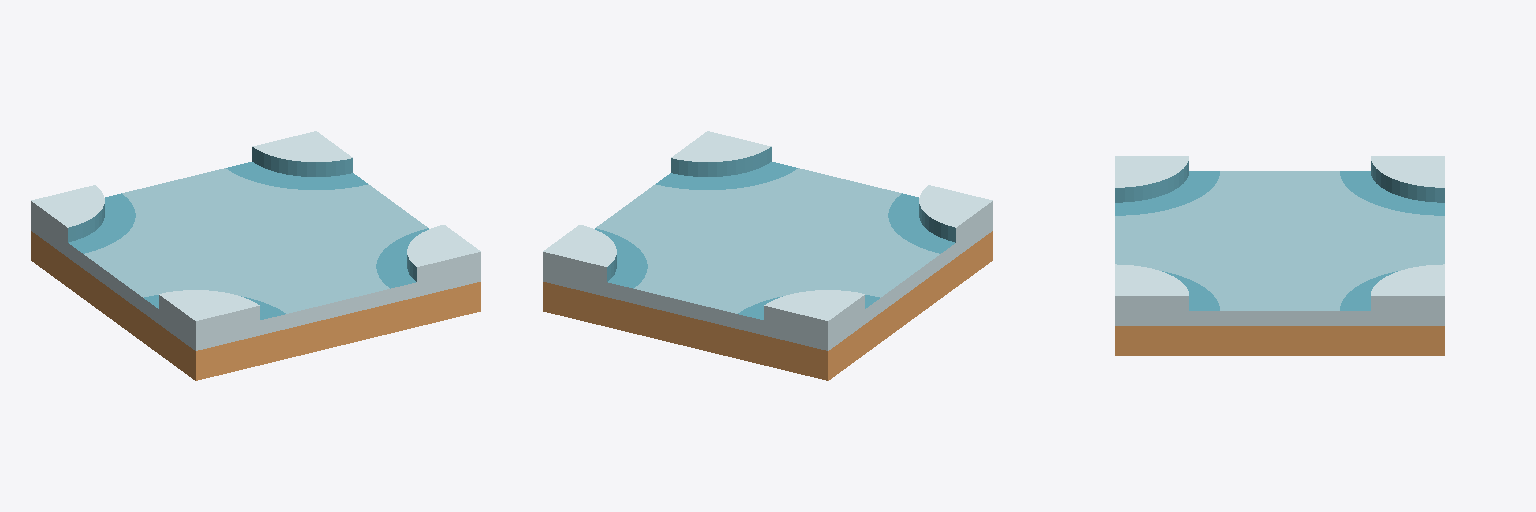
File: snow_tile_crossing.obj
3 renders of one model, left to right at view 1: azimuth 30°, elevation 25°; view 2: azimuth 150°, elevation 25°; view 3: azimuth 270°, elevation 25°, orthographic.
Parts seen in each view (by area): view 1: snow_tile_crossing; view 2: snow_tile_crossing; view 3: snow_tile_crossing.
Boxes of the visible parts, x1,y1,x2,y2 form: snow_tile_crossing: [31, 131, 480, 380]; snow_tile_crossing: [543, 131, 992, 380]; snow_tile_crossing: [1115, 156, 1444, 355].
Size of the model in its own units: 1 by 0.2 by 1.